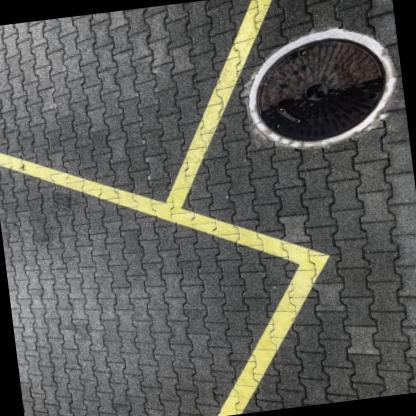manholes: (208, 10, 410, 174)
